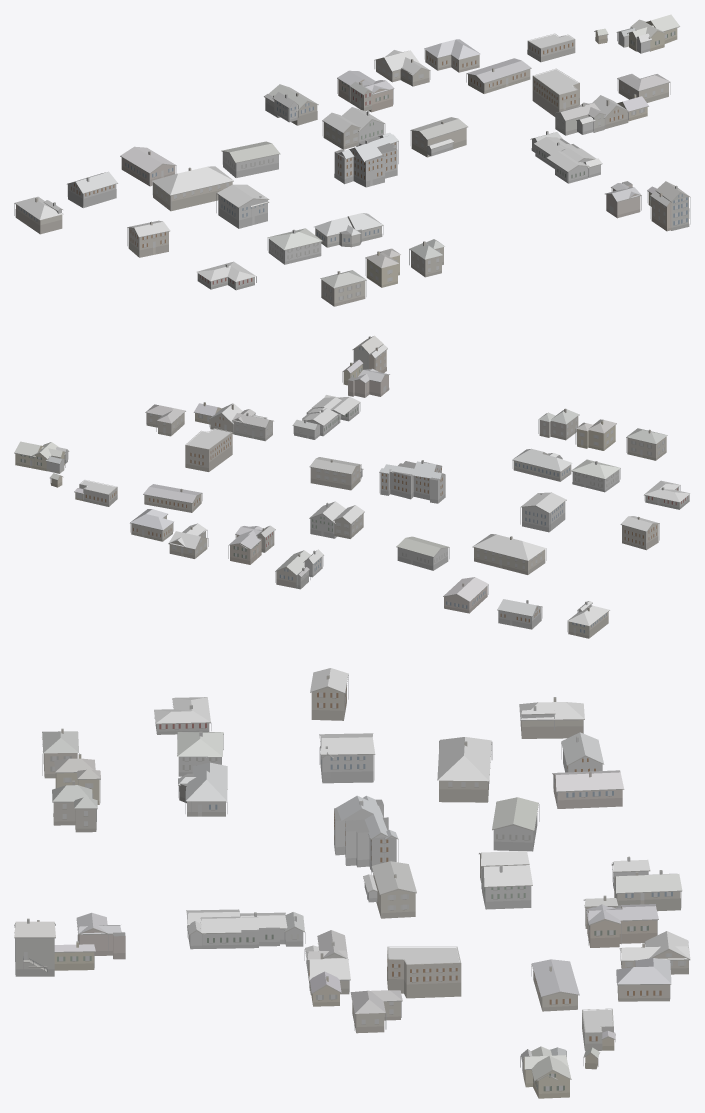
3 views of the same model, one above another, from view 1: azimuth 30°, elevation 25°; view 2: azimuth 150°, elevation 25°; view 3: azimuth 270°, elevation 25° (orthographic). The views are drawn at different scales.
Parts seen in each view (by area): view 1: bld; view 2: bld; view 3: bld.
Boxes of the visible parts, x1=… form: bld: x1=14, y1=14, x2=690, y2=306; bld: x1=14, y1=335, x2=690, y2=638; bld: x1=14, y1=668, x2=690, y2=1098.
Bounding box in the file's own units: 241 × 26.17 × 164.
